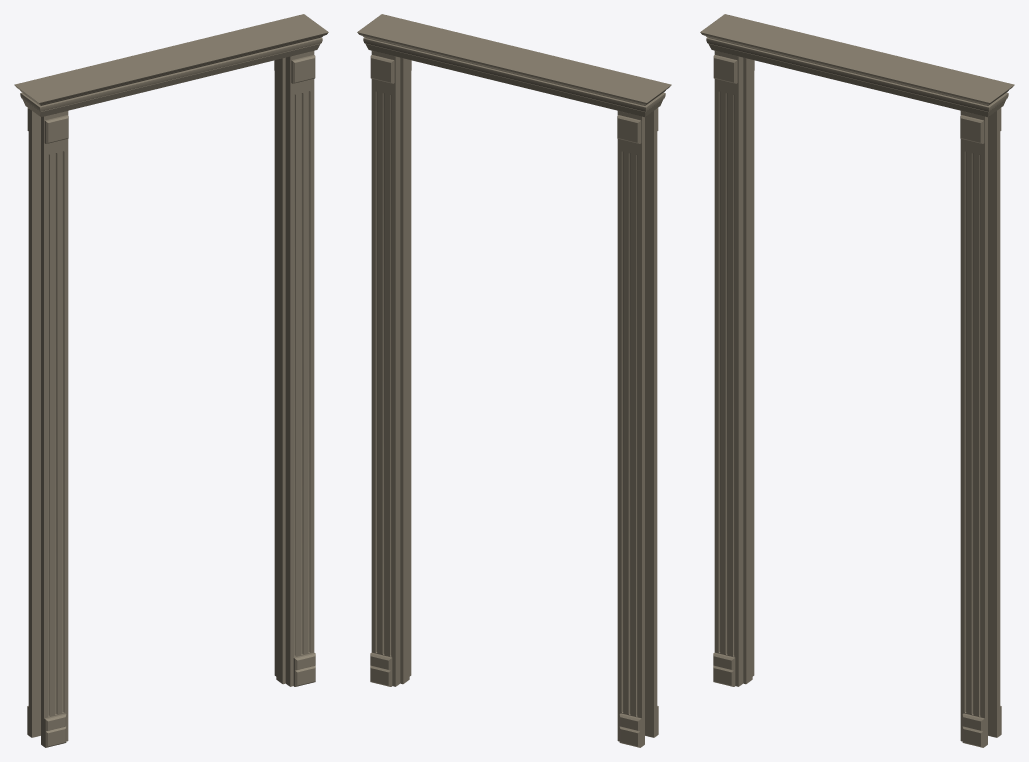
The model's file is 13_LONDON_Frame.glb.
3 renders of one model, left to right at view 1: azimuth 30°, elevation 25°; view 2: azimuth 150°, elevation 25°; view 3: azimuth 330°, elevation 25°, orthographic.
Parts seen in each view (by area): view 1: 13_LONDON_Frame; view 2: 13_LONDON_Frame; view 3: 13_LONDON_Frame.
Part boxes in pixels (x1=…): 13_LONDON_Frame: x1=14, y1=14, x2=328, y2=747; 13_LONDON_Frame: x1=357, y1=14, x2=671, y2=747; 13_LONDON_Frame: x1=700, y1=14, x2=1014, y2=747.
Bounding box in the file's own units: 1.07 × 2.3 × 0.1602.
